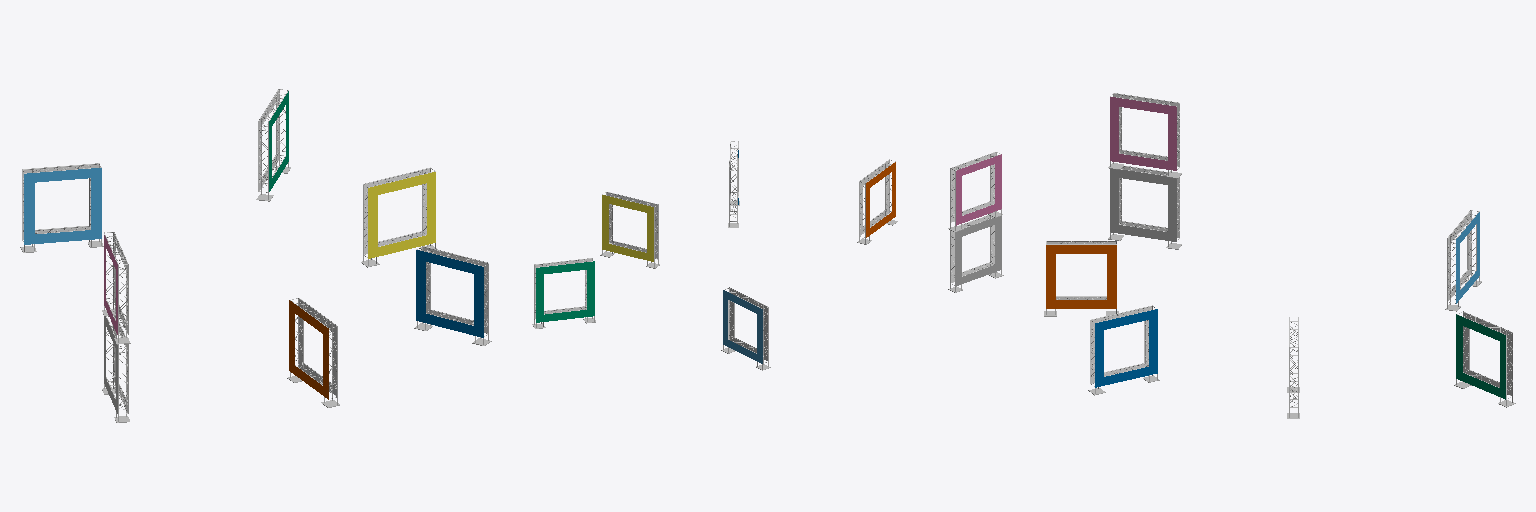
URDF robot description (rpg_gate_group):
<?xml version="1.0"?>
<robot name="rpg_gate_group">

  <!-- 根坐标系 world -->
  <link name="world"/>

  <!-- Gate 1 -->
  <link name="gate_1">
    <visual>
      <origin xyz="0 0 0" rpy="0 0 0"/>
      <geometry>
        <mesh filename="package://acados_nmpc_controller/asset/RPGgate.dae" scale="1 1 1"/>
      </geometry>
    </visual>
  </link>
  <joint name="joint_gate_1" type="fixed">
    <parent link="world"/>
    <child link="gate_1"/>
    <origin xyz="-2 8 2.5" rpy="0 0 -0.34"/>
  </joint>

  <!-- Gate 2 -->
  <link name="gate_2">
    <visual>
      <origin xyz="0 0 0" rpy="0 0 0"/>
      <geometry>
        <mesh filename="package://acados_nmpc_controller/asset/RPGgate.dae" scale="1 1 1"/>
      </geometry>
    </visual>
  </link>
  <joint name="joint_gate_2" type="fixed">
    <parent link="world"/>
    <child link="gate_2"/>
    <origin xyz="9 9 2.5" rpy="0 0 -2.355"/>
  </joint>

  <!-- Gate 3 -->
  <link name="gate_3">
    <visual>
      <origin xyz="0 0 0" rpy="0 0 0"/>
      <geometry>
        <mesh filename="package://acados_nmpc_controller/asset/RPGgate.dae" scale="1 1 1"/>
      </geometry>
    </visual>
  </link>
  <joint name="joint_gate_3" type="fixed">
    <parent link="world"/>
    <child link="gate_3"/>
    <origin xyz="10 0 2.5" rpy="0 0 3.14"/>
  </joint>

  <!-- Gate 4 -->
  <link name="gate_4">
    <visual>
      <origin xyz="0 0 0" rpy="0 0 0"/>
      <geometry>
        <mesh filename="package://acados_nmpc_controller/asset/RPGgate.dae" scale="1 1 1"/>
      </geometry>
    </visual>
  </link>
  <joint name="joint_gate_4" type="fixed">
    <parent link="world"/>
    <child link="gate_4"/>
    <origin xyz="8 -8 2.5" rpy="0 0 2.07"/>
  </joint>

  <!-- Gate 5 -->
  <link name="gate_5">
    <visual>
      <origin xyz="0 0 0" rpy="0 0 0"/>
      <geometry>
        <mesh filename="package://acados_nmpc_controller/asset/RPGgate.dae" scale="1 1 1"/>
      </geometry>
    </visual>
  </link>
  <joint name="joint_gate_5" type="fixed">
    <parent link="world"/>
    <child link="gate_5"/>
    <origin xyz="0 -10 2.5" rpy="0 0 1.5708"/>
  </joint>

  <!-- Gate 6 -->
  <link name="gate_6">
    <visual>
      <origin xyz="0 0 0" rpy="0 0 0"/>
      <geometry>
        <mesh filename="package://acados_nmpc_controller/asset/RPGgate.dae" scale="1 1 1"/>
      </geometry>
    </visual>
  </link>
  <joint name="joint_gate_6" type="fixed">
    <parent link="world"/>
    <child link="gate_6"/>
    <origin xyz="-8 -7 6.2" rpy="0 0 1.2308"/>
  </joint>

  <!-- Gate 7 -->
  <link name="gate_7">
    <visual>
      <origin xyz="0 0 0" rpy="0 0 0"/>
      <geometry>
        <mesh filename="package://acados_nmpc_controller/asset/RPGgate.dae" scale="1 1 1"/>
      </geometry>
    </visual>
  </link>
  <joint name="joint_gate_7" type="fixed">
    <parent link="world"/>
    <child link="gate_7"/>
    <origin xyz="-8 -7 2.5" rpy="0 0 1.2308"/>
  </joint>

</robot>

--- Facts derived from the render (not from the file) ---
3 views of the same robot in one strip: view 1: azimuth 30°, elevation 25°; view 2: azimuth 150°, elevation 25°; view 3: azimuth 270°, elevation 25° (orthographic).
Model rpg_gate_group with 8 links and 7 joints (7 fixed), rooted at world, posed every joint at zero.
Visible links, largest first — view 1: gate_4, gate_1, gate_3, gate_5, gate_2, gate_6, gate_7; view 2: gate_3, gate_2, gate_6, gate_7, gate_1, gate_5; view 3: gate_4, gate_6, gate_7, gate_2, gate_5, gate_1, gate_3.
Link boxes in pixels (bbox=[...]): gate_4: bbox=[414, 246, 491, 345]; gate_1: bbox=[20, 163, 103, 252]; gate_3: bbox=[361, 167, 437, 267]; gate_5: bbox=[287, 298, 339, 407]; gate_2: bbox=[256, 89, 290, 201]; gate_6: bbox=[102, 232, 130, 344]; gate_7: bbox=[102, 316, 129, 422]; gate_3: bbox=[600, 192, 659, 268]; gate_2: bbox=[532, 258, 595, 328]; gate_6: bbox=[948, 152, 1002, 231]; gate_7: bbox=[948, 215, 1003, 292]; gate_1: bbox=[721, 287, 770, 370]; gate_5: bbox=[857, 159, 897, 244]; gate_4: bbox=[1088, 305, 1159, 395]; gate_6: bbox=[1108, 93, 1181, 178]; gate_7: bbox=[1108, 166, 1181, 249]; gate_2: bbox=[1454, 311, 1515, 407]; gate_5: bbox=[1044, 241, 1118, 316]; gate_1: bbox=[1445, 210, 1481, 311]; gate_3: bbox=[1287, 317, 1299, 418].
Bounding box of the posed robot: 20.61 × 22.2 × 7.41 m (x, y, z).
7 mesh visuals loaded from 1 distinct referenced files (1 Collada DAE).
